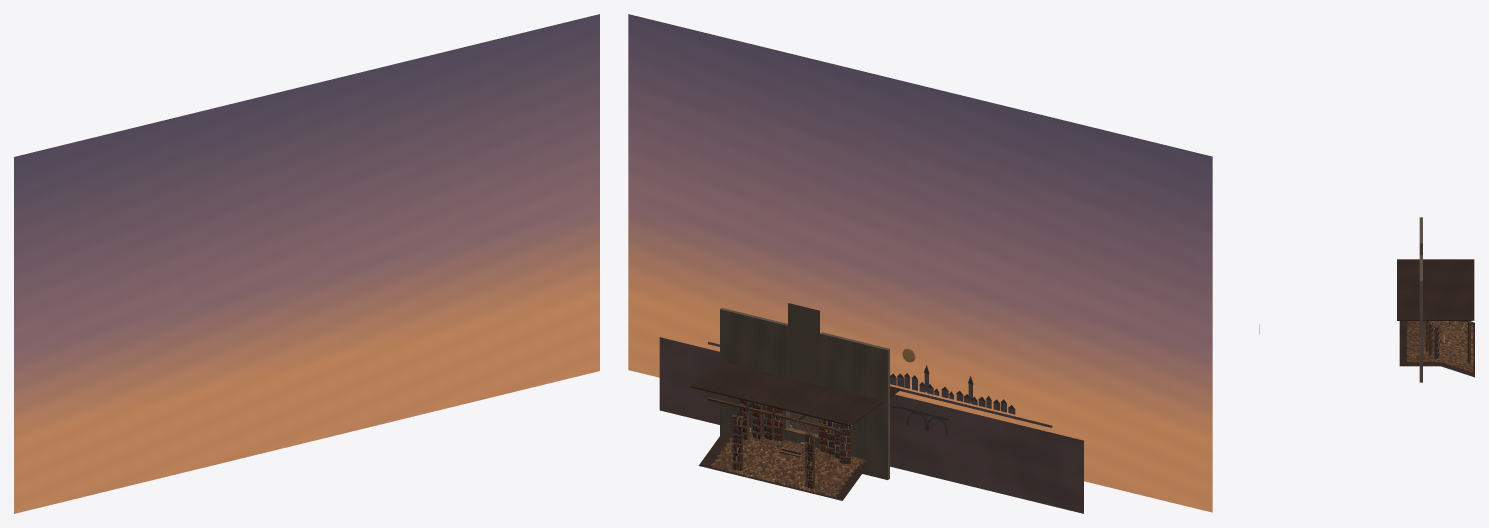
File: ScholarCg_v1.fbx
The picture shows the model from 3 angles, left to right: view 1: azimuth 30°, elevation 25°; view 2: azimuth 150°, elevation 25°; view 3: azimuth 270°, elevation 25°; orthographic projection. The views are drawn at different scales.
Parts seen in each view (by area): view 1: far_sunset_sky; view 2: far_sunset_sky, far_river, wall_right, ceiling_shadow, wall_left, floor_herringbone_parquet, wall_arch_header, floor_substrate; view 3: ceiling_shadow, floor_herringbone_parquet, floor_substrate, wall_left.
Boxes of the visible parts, x1,y1,x2,y2 form: far_sunset_sky: [14, 14, 599, 513]; far_sunset_sky: [628, 14, 1212, 512]; far_river: [659, 337, 1083, 513]; wall_right: [820, 332, 889, 479]; ceiling_shadow: [690, 362, 900, 426]; wall_left: [720, 308, 789, 440]; floor_herringbone_parquet: [711, 431, 866, 497]; wall_arch_header: [788, 303, 819, 385]; floor_substrate: [698, 427, 890, 500]; ceiling_shadow: [1397, 259, 1474, 320]; floor_herringbone_parquet: [1406, 321, 1473, 371]; floor_substrate: [1399, 321, 1474, 377]; wall_left: [1419, 255, 1422, 382].
Size of what is drawn, in the model's own units: 292 by 170 by 130.
Materials: 17 (16 with a texture image).
